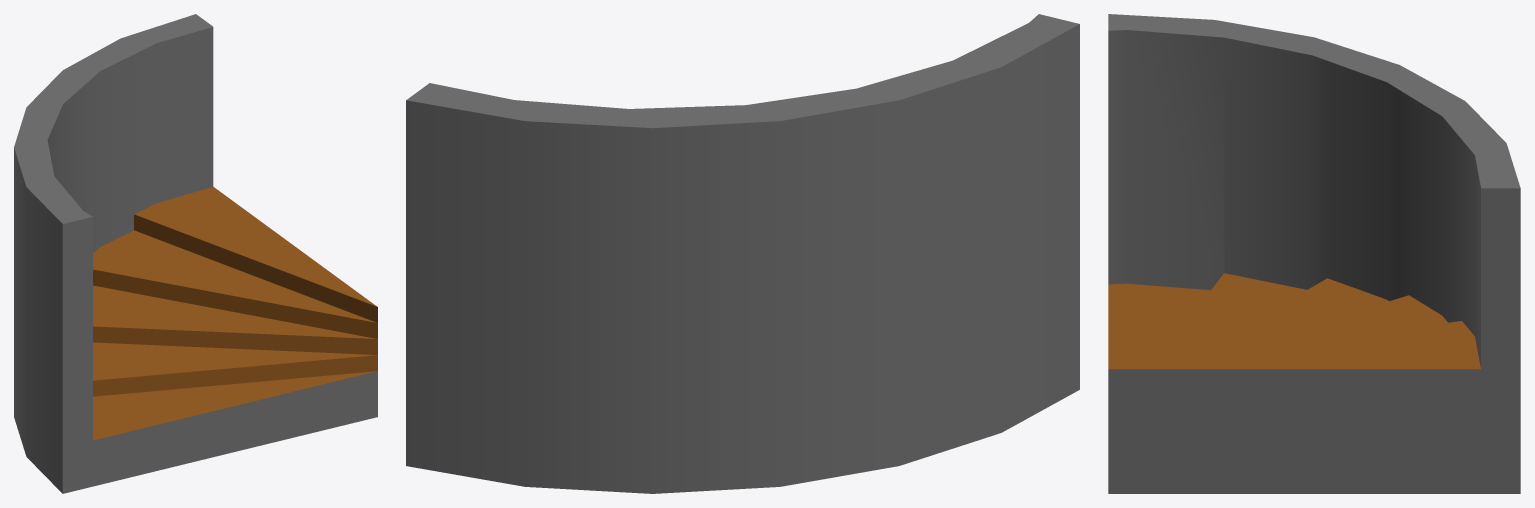
Rendered from Dungeon_Tile_Stairs_Spiral_Part_Walls_Wooden_Large_01.fbx.
The picture shows the model from 3 angles, left to right: view 1: azimuth 30°, elevation 25°; view 2: azimuth 150°, elevation 25°; view 3: azimuth 270°, elevation 25°; orthographic projection. The views are drawn at different scales.
Visible parts, largest first — view 1: Dungeon_Tile_Stairs_Spiral_Part_Walls_Wooden_Large_01; view 2: Dungeon_Tile_Stairs_Spiral_Part_Walls_Wooden_Large_01; view 3: Dungeon_Tile_Stairs_Spiral_Part_Walls_Wooden_Large_01.
Boxes of the visible parts, x1,y1,x2,y2 form: Dungeon_Tile_Stairs_Spiral_Part_Walls_Wooden_Large_01: (14, 14, 377, 493); Dungeon_Tile_Stairs_Spiral_Part_Walls_Wooden_Large_01: (406, 14, 1079, 493); Dungeon_Tile_Stairs_Spiral_Part_Walls_Wooden_Large_01: (1108, 14, 1520, 493).
Bounding box in the file's own units: 90.22 × 73.82 × 90.22.
